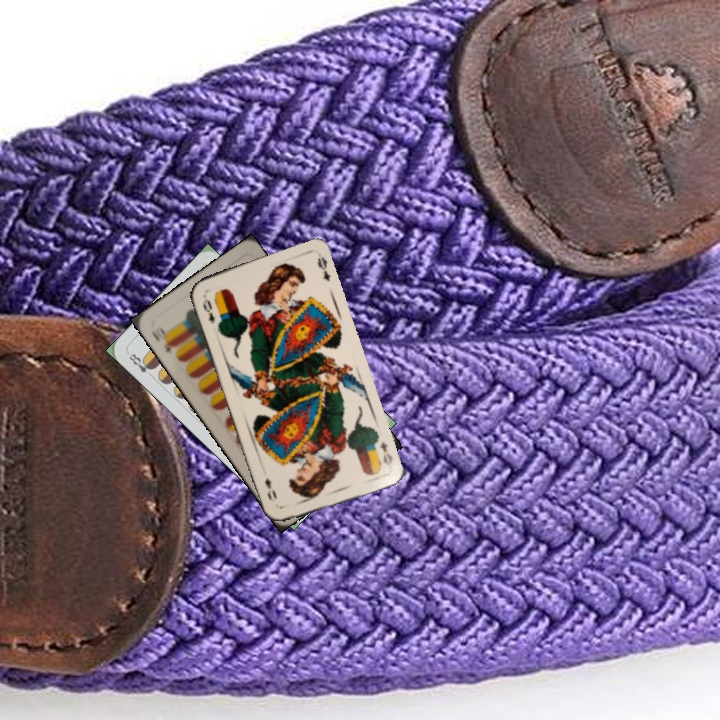E10: (147, 322, 178, 355)
E8: (125, 349, 156, 381)
EO: (199, 291, 218, 326), (376, 437, 395, 469)
